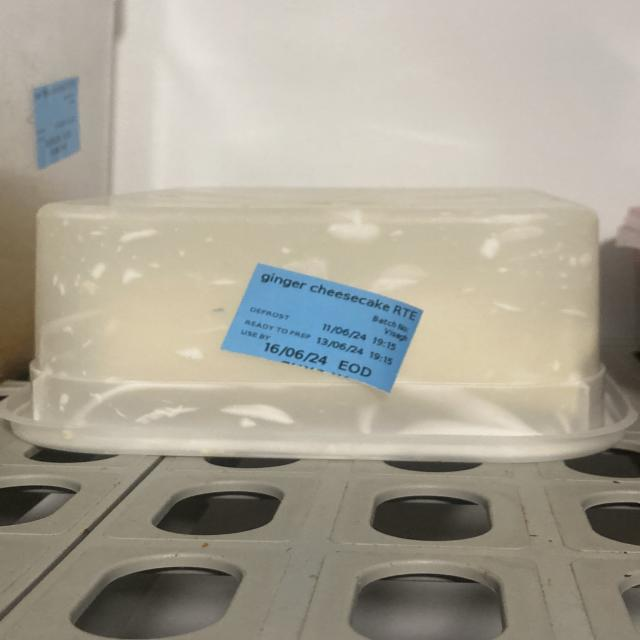product-labels: (220, 259, 423, 398), (35, 76, 82, 170)
